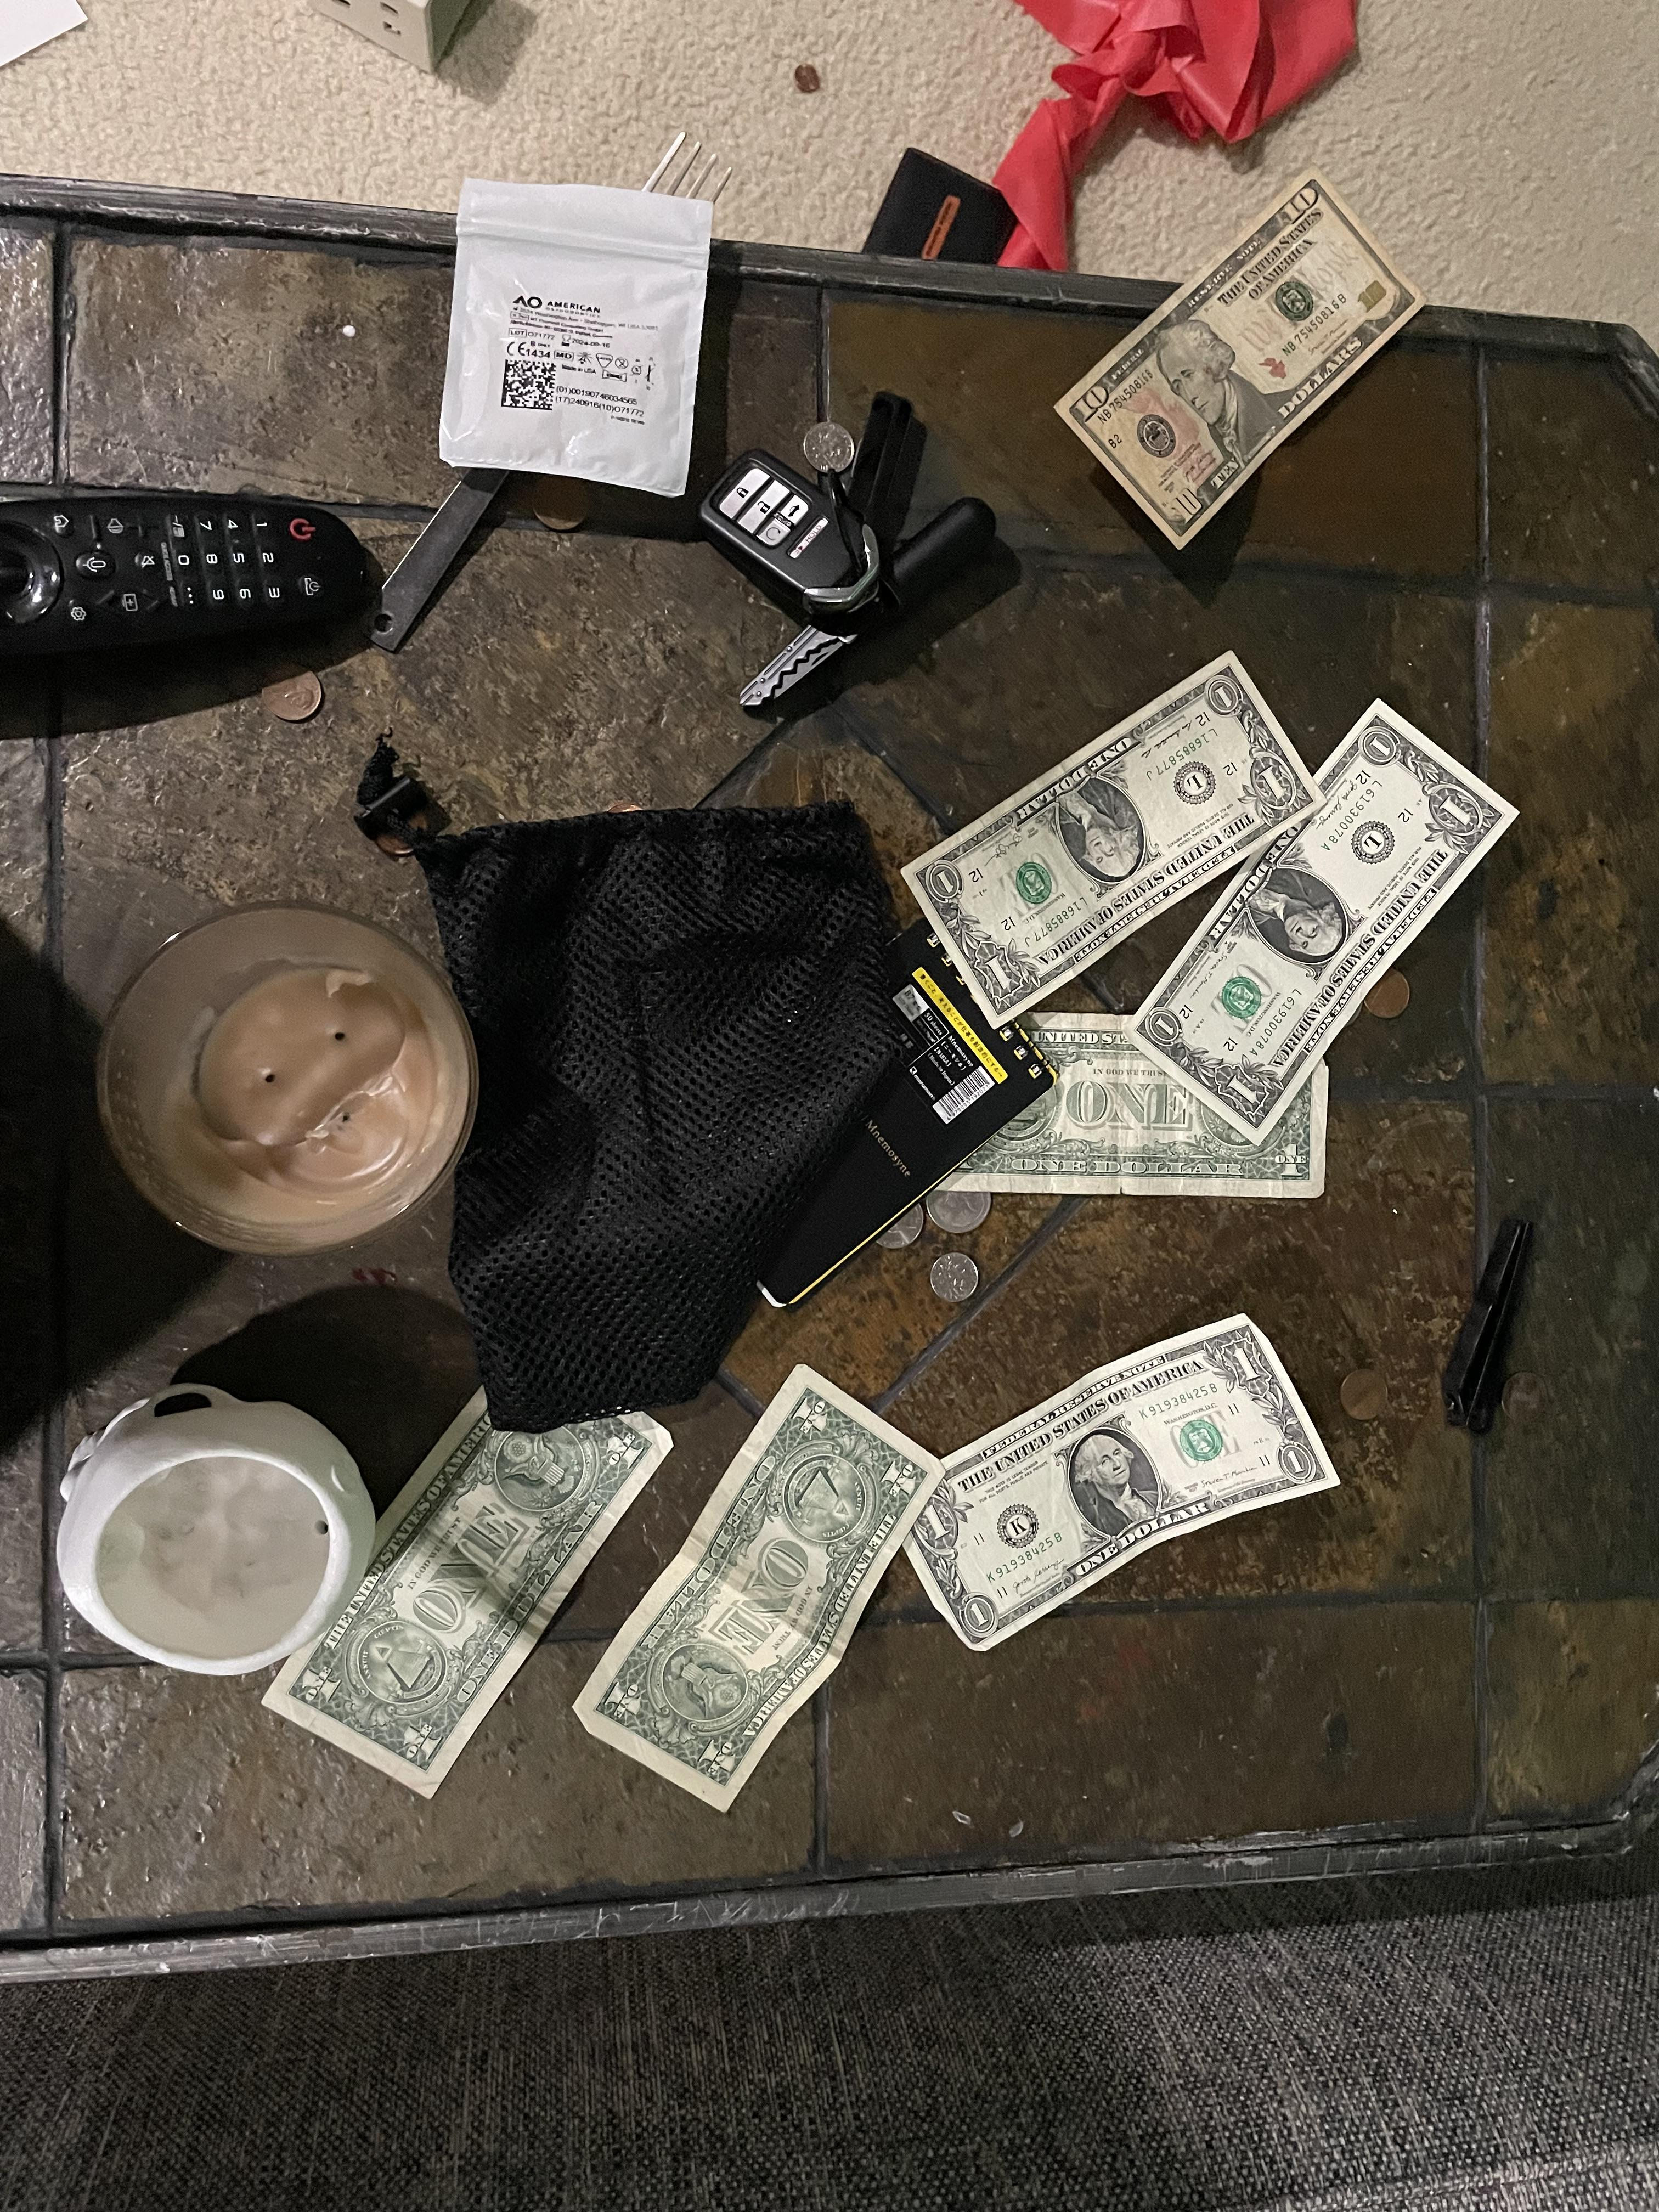Dime: (922, 1240, 992, 1310), (789, 413, 859, 479)
OneBill: (246, 1348, 687, 1815), (1121, 702, 1530, 1141), (573, 1341, 945, 1824), (899, 1301, 1338, 1651), (927, 658, 1324, 1019), (899, 1012, 1331, 1198)
Penny: (244, 662, 328, 733), (1347, 961, 1427, 1031), (1328, 1353, 1391, 1439), (518, 469, 592, 533), (784, 59, 826, 105)
Quarter: (922, 1179, 1002, 1231)
TenBill: (1056, 153, 1422, 554)
